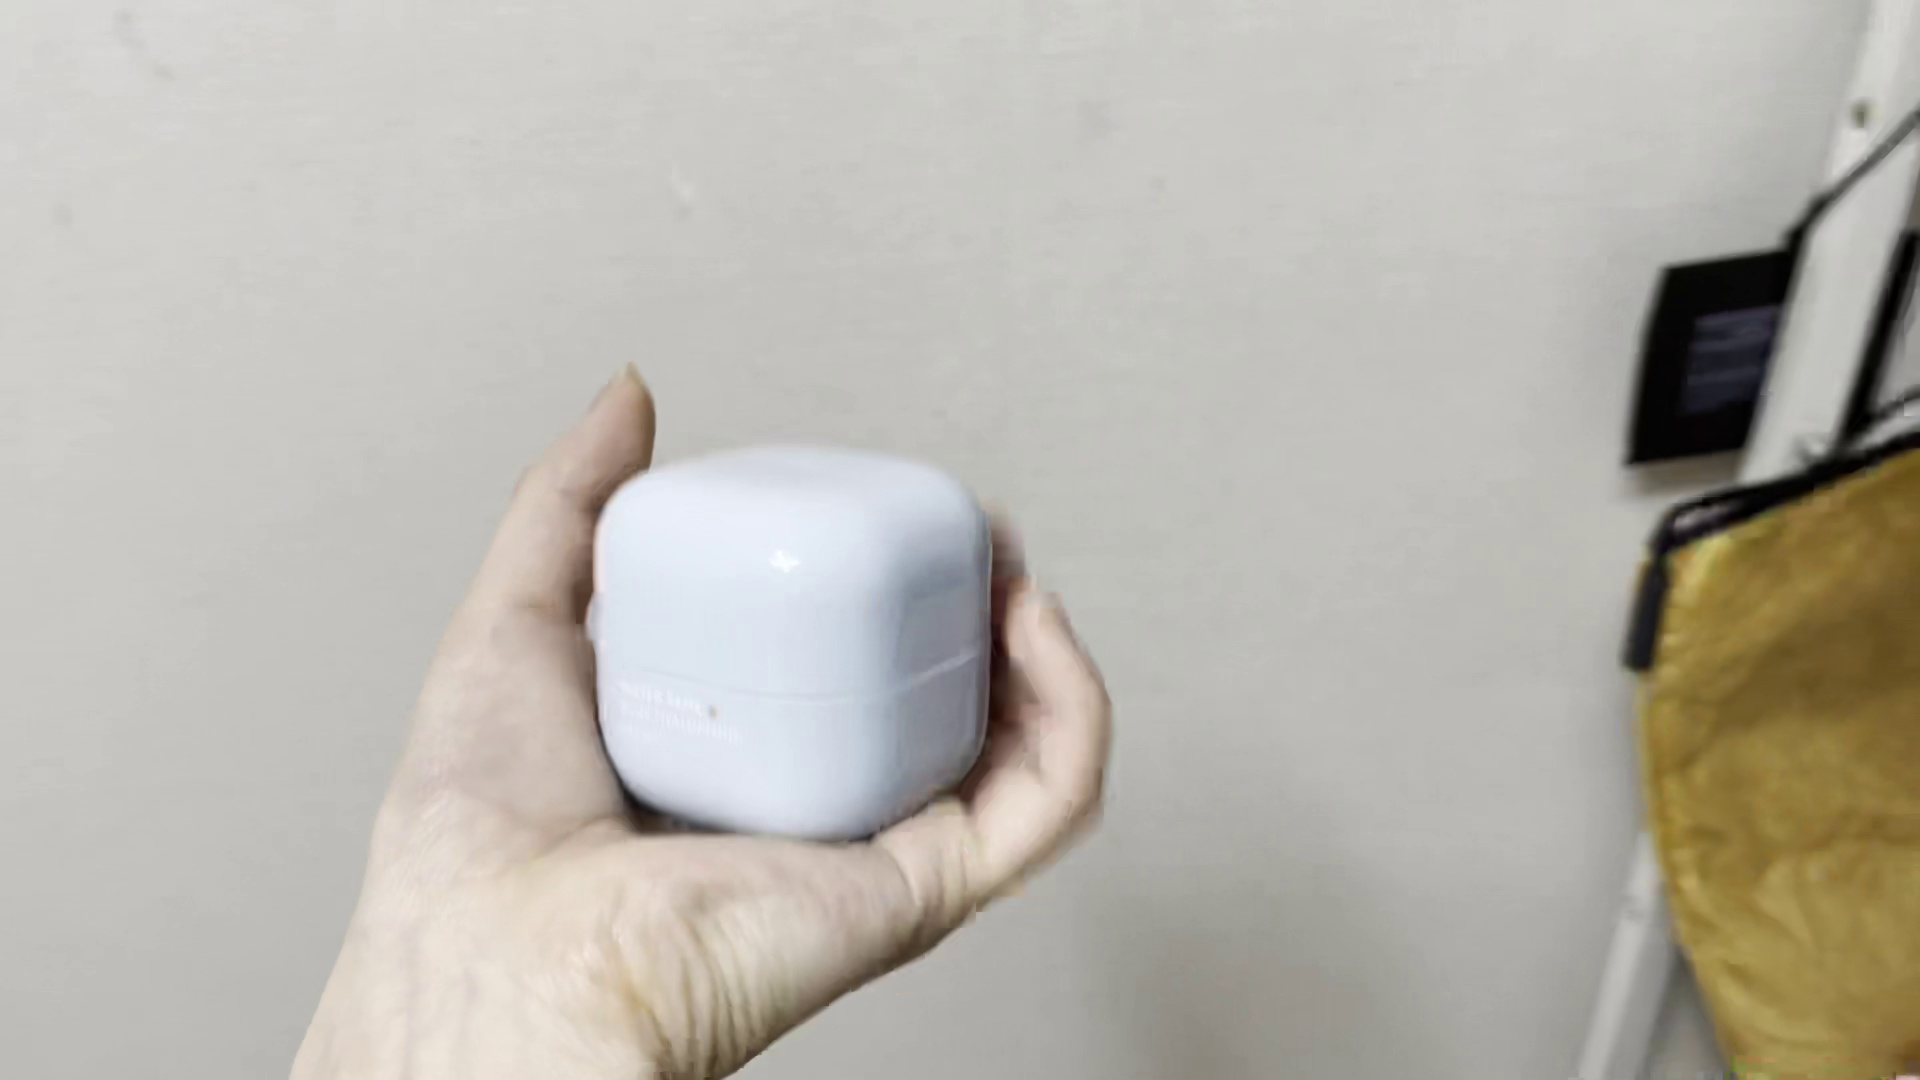cream: (589, 440, 1001, 843)
